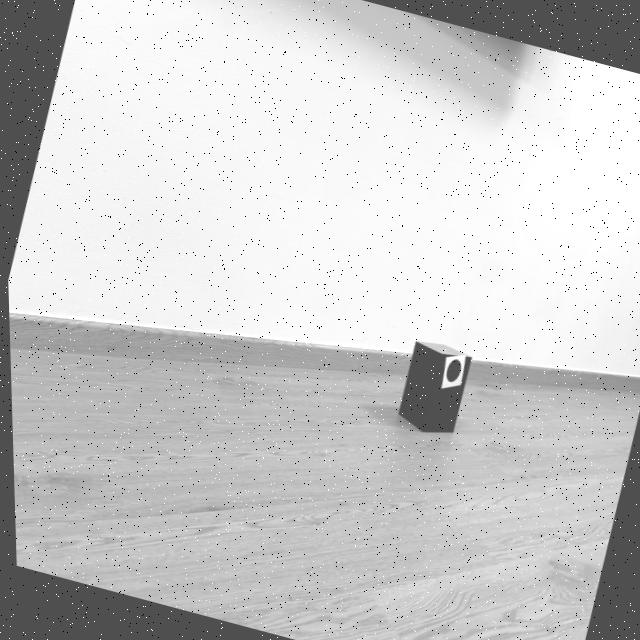CIRCLE: (443, 358, 459, 382)
